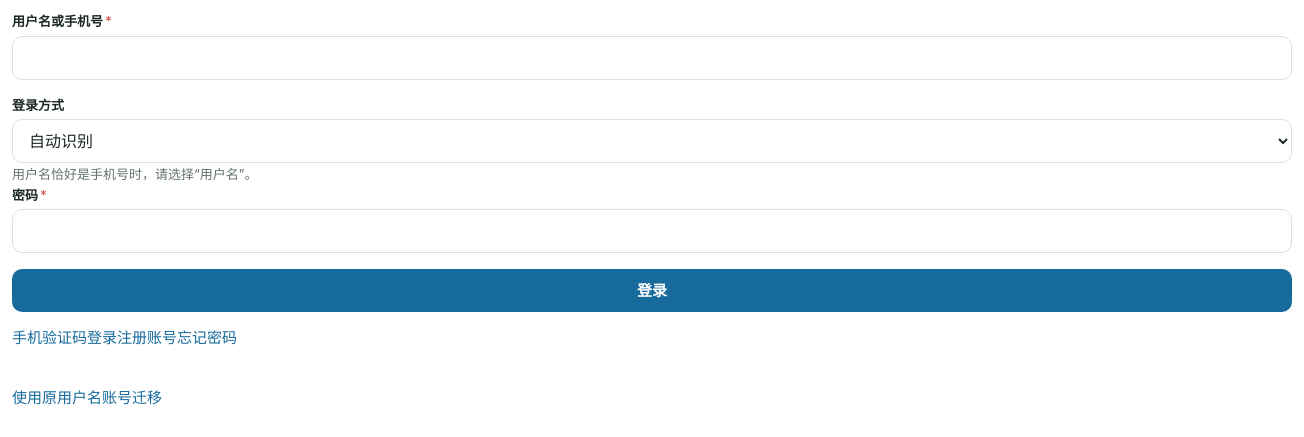
Test case: ParticipantAccessPanel 登录面板 › 保留存量用户名账号迁移入口
Click the button "使用原用户名账号迁移". click: (87, 398)
box: [12, 376, 162, 420]
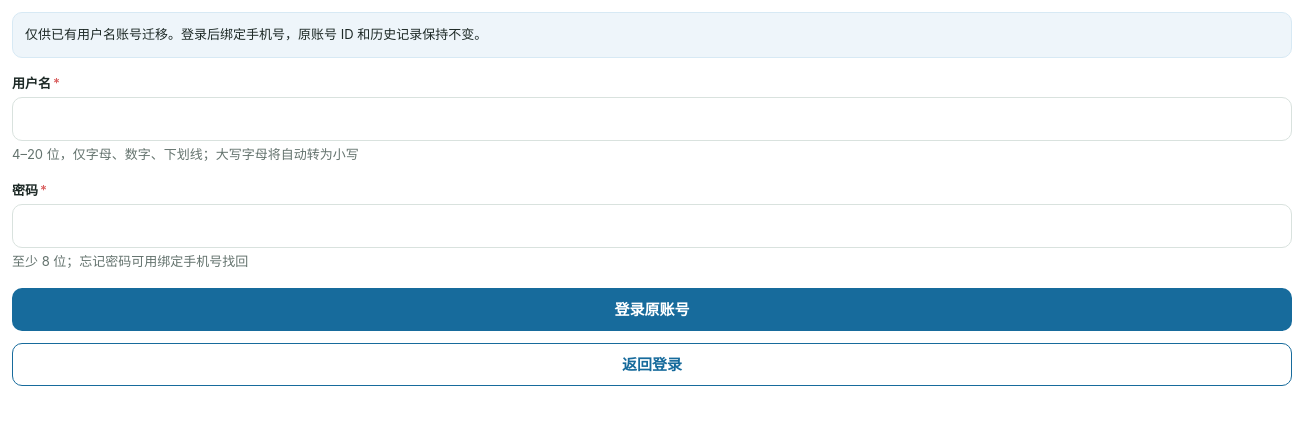
Check: the field labelled "用户名*" is shown, box [12, 97, 1292, 141]
Check: the button "登录原账号" is shown, box [12, 288, 1292, 330]
Click the button "返回登录". click: (652, 364)
box: [12, 342, 1292, 386]
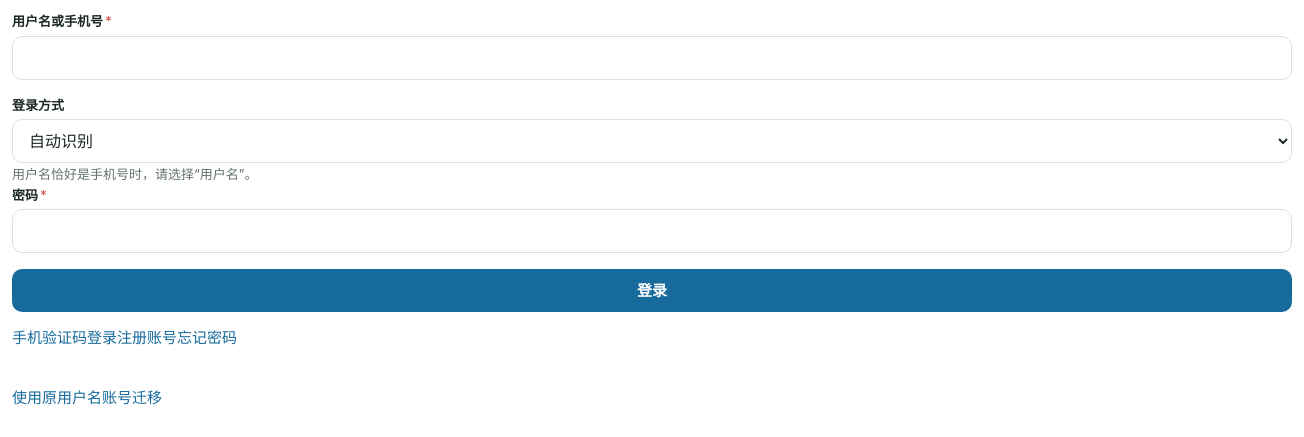
Check: the field labelled "用户名或手机号*" is shown, box [12, 36, 1292, 80]
